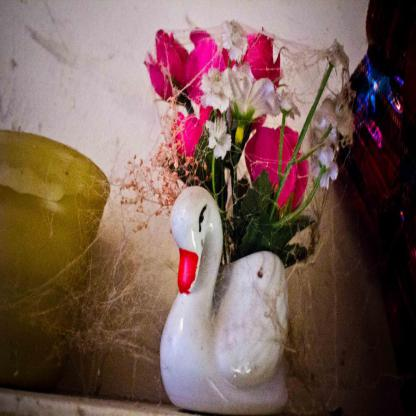vase: (159, 184, 290, 415)
